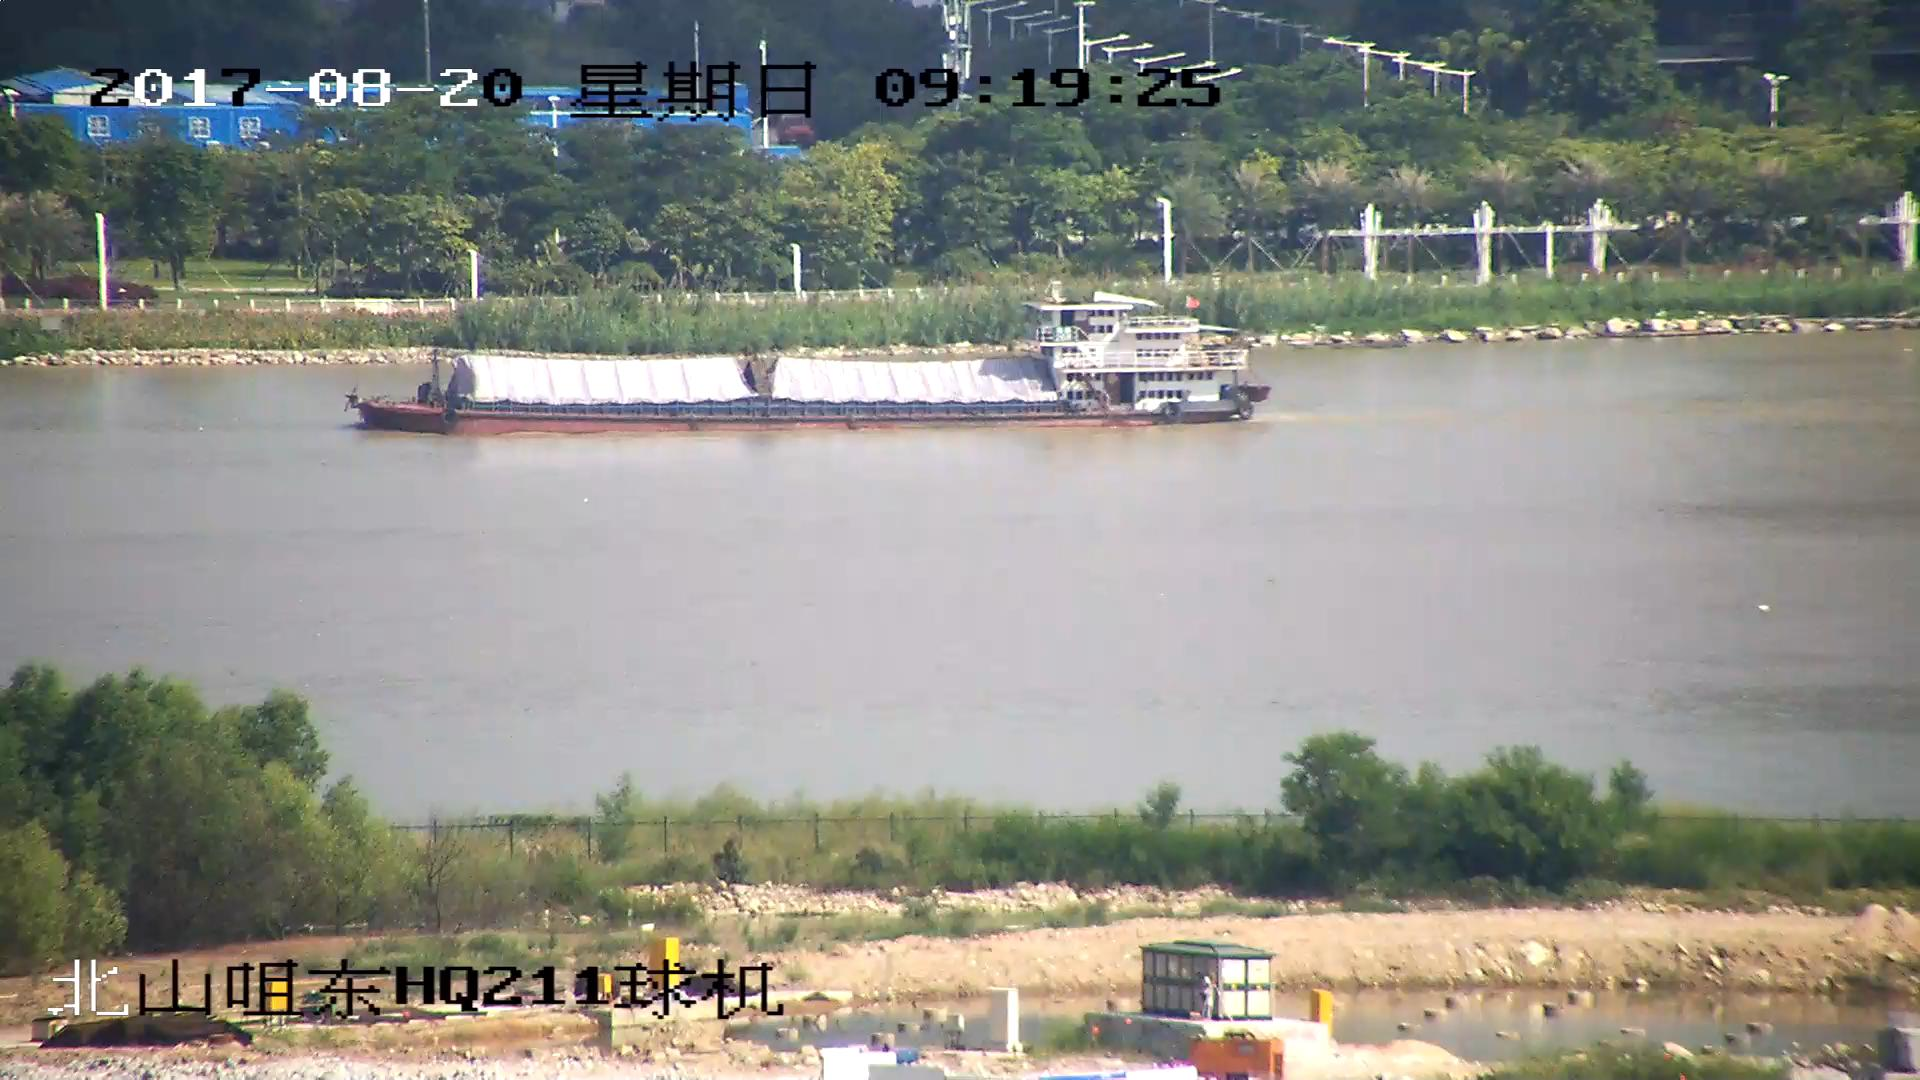general cargo ship: (357, 292, 1267, 430)
